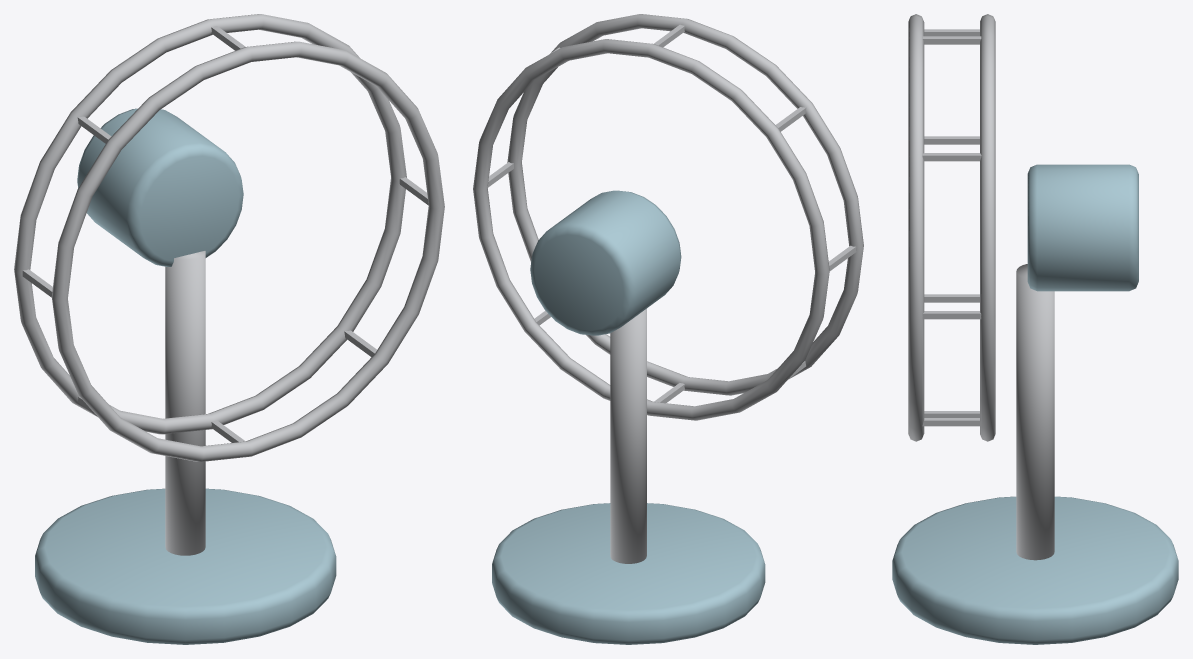
Rendered from fan_body.fbx.
3 renders of one model, left to right at view 1: azimuth 30°, elevation 25°; view 2: azimuth 150°, elevation 25°; view 3: azimuth 270°, elevation 25°, orthographic. The views are drawn at different scales.
Visible parts, largest first — view 1: fan_body; view 2: fan_body; view 3: fan_body.
Boxes of the visible parts, box(x1,y1,x2,y2) form: fan_body: box(14, 14, 444, 644); fan_body: box(473, 14, 863, 644); fan_body: box(892, 14, 1178, 644).
Bounding box in the file's own units: 0.27 × 0.385 × 0.18.
